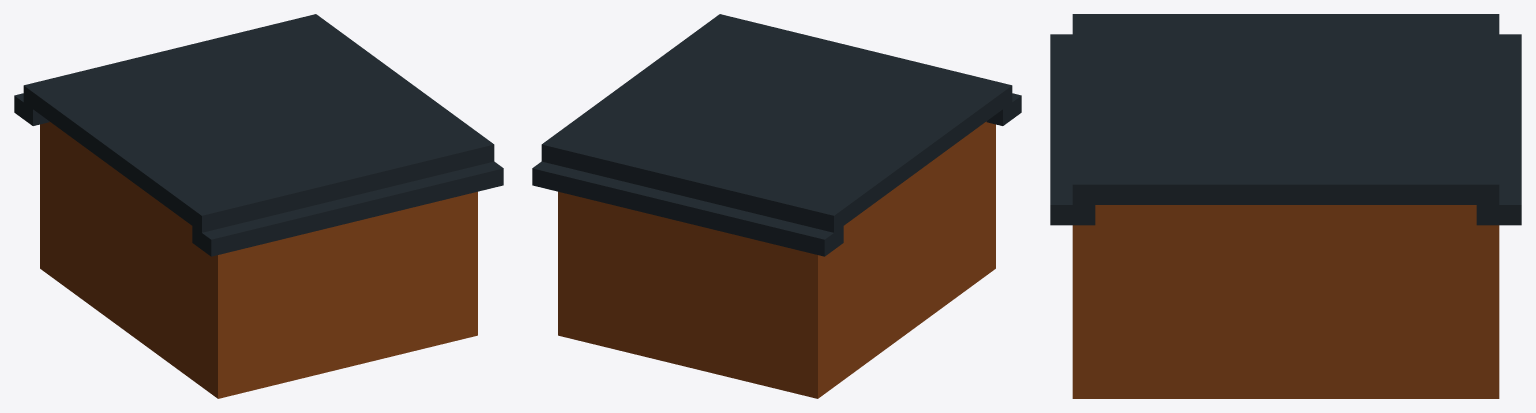
Rendered from House.obj.
3 renders of one model, left to right at view 1: azimuth 30°, elevation 25°; view 2: azimuth 150°, elevation 25°; view 3: azimuth 270°, elevation 25°, orthographic. The views are drawn at different scales.
Bounding box in the file's own units: 1.8 × 1.1 × 2.1.
Materials: 1 (1 with a texture image).
